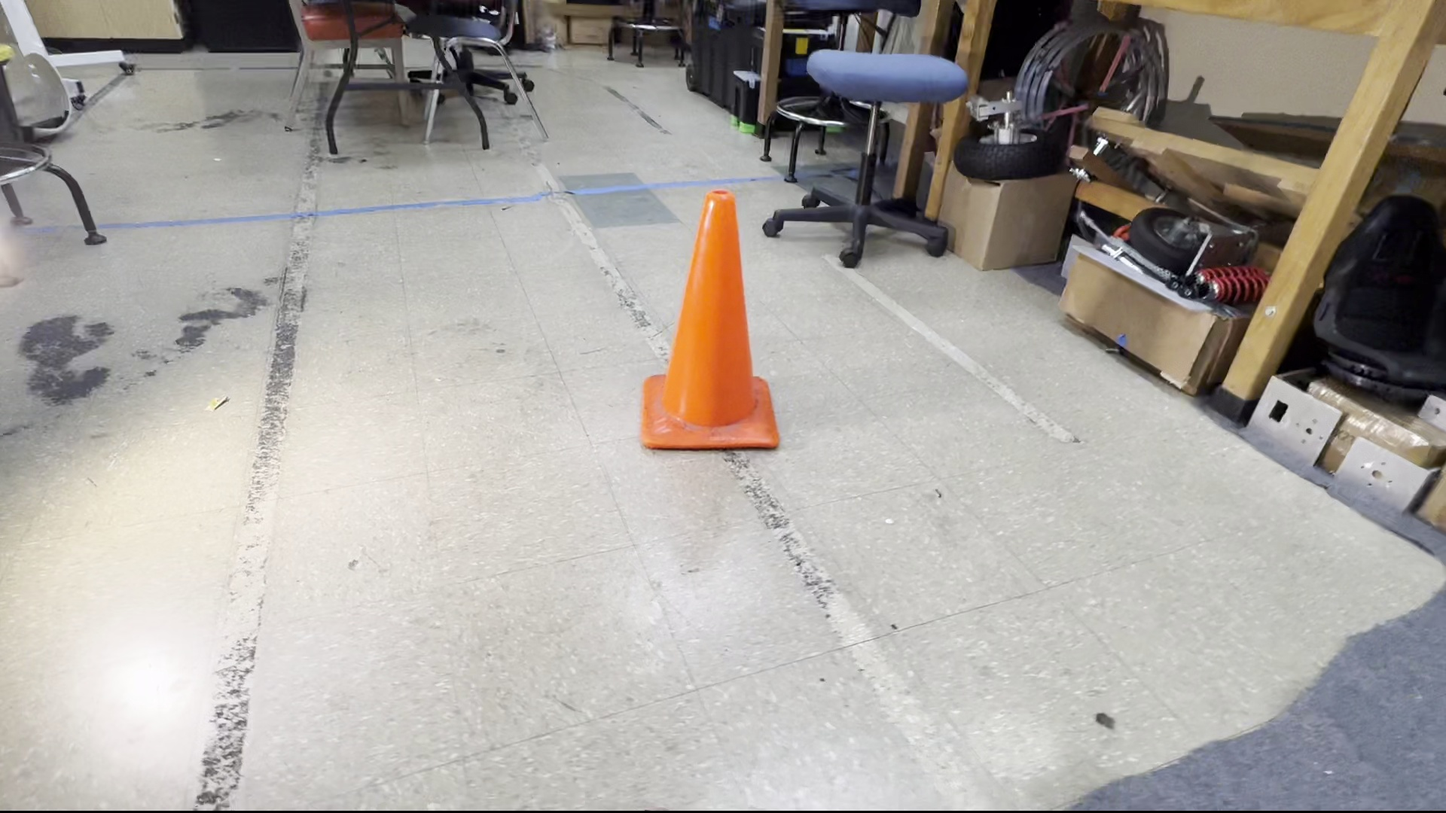traffic_cone: (639, 188, 780, 451)
